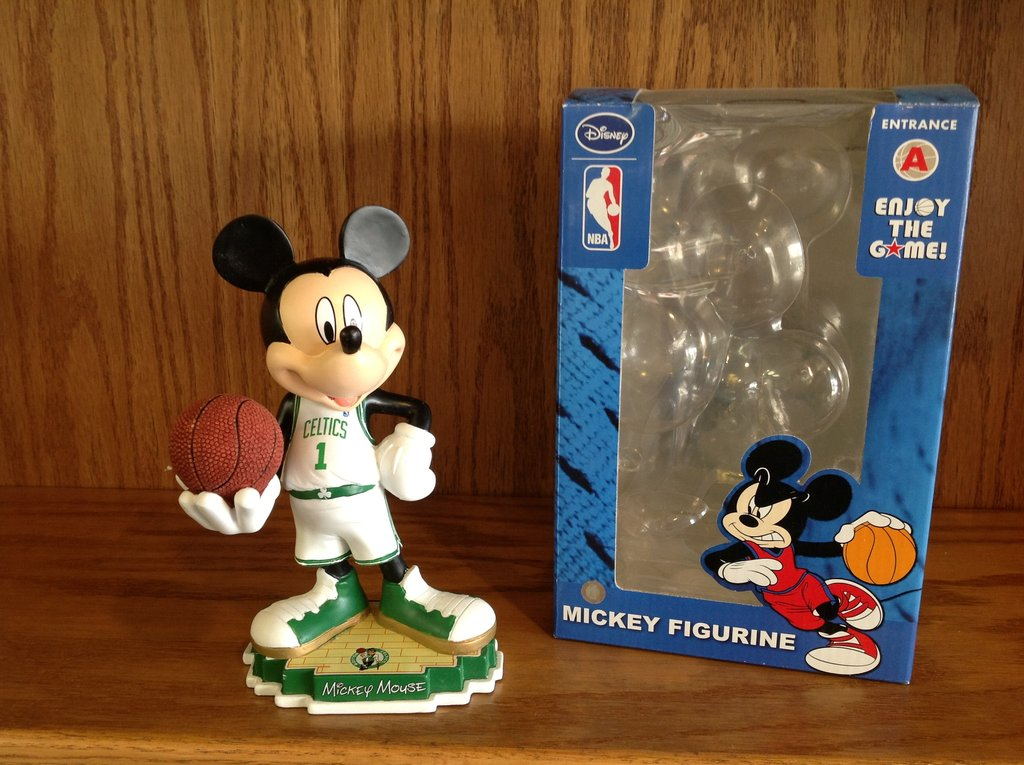Mickey: (209, 204, 412, 415)
